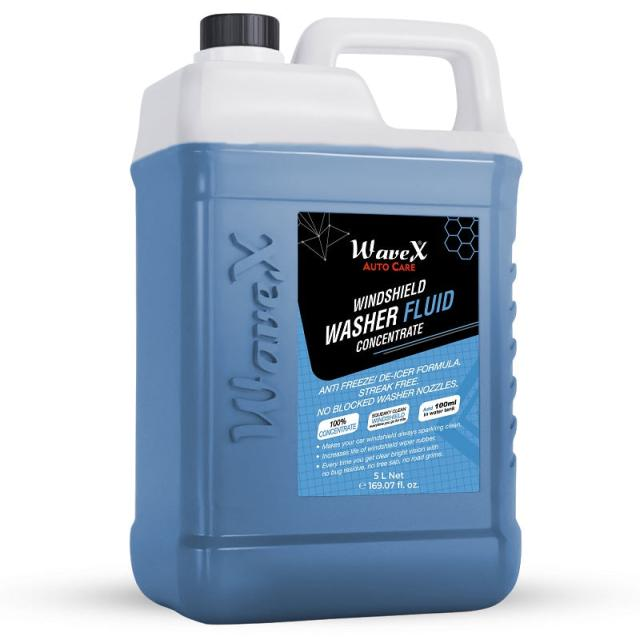winwinshield_washer: (122, 11, 544, 629)
